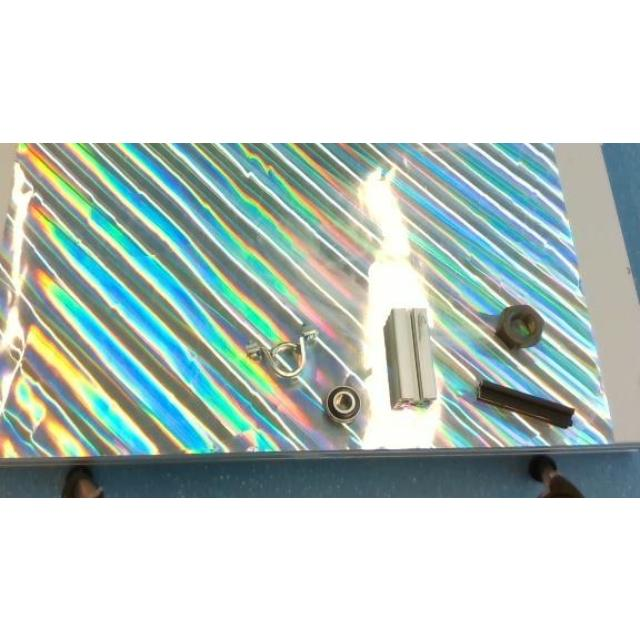Bearing2: (323, 384, 363, 422)
F20_20_B: (476, 376, 574, 426)
Housing: (246, 323, 318, 379)
M30: (495, 303, 543, 347)
S40_40_G: (383, 306, 435, 408)
